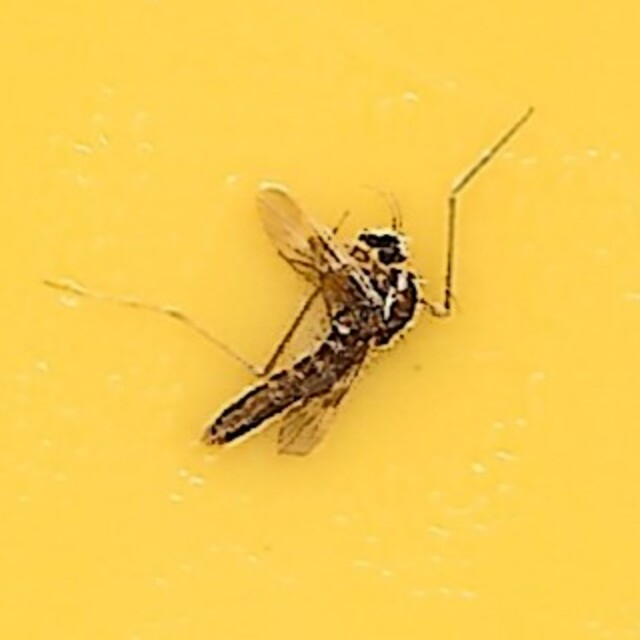Nematocera: (200, 186, 440, 454)
